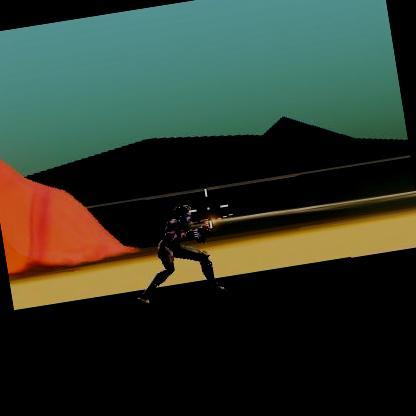person: (126, 202, 230, 307), (162, 202, 204, 243)
